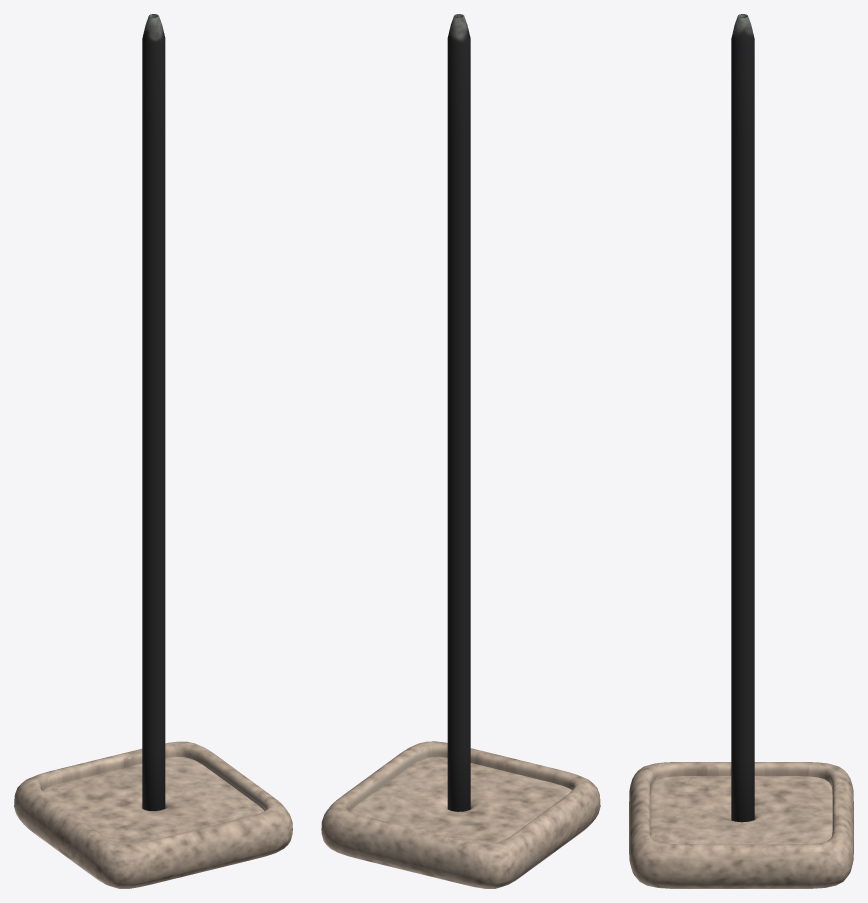
Rendered from Incense.fbx.
3 renders of one model, left to right at view 1: azimuth 30°, elevation 25°; view 2: azimuth 150°, elevation 25°; view 3: azimuth 270°, elevation 25°, orthographic.
Parts seen in each view (by area): view 1: Stand, Incense; view 2: Stand, Incense; view 3: Stand, Incense.
Part boxes in pixels (box(x1,y1,x2,y2)): Stand: box(14, 741, 292, 888); Incense: box(142, 14, 165, 810); Stand: box(321, 741, 600, 888); Incense: box(447, 14, 470, 811); Stand: box(629, 762, 853, 888); Incense: box(731, 14, 754, 822).
Size of the model in its own units: 197 by 809 by 197.
